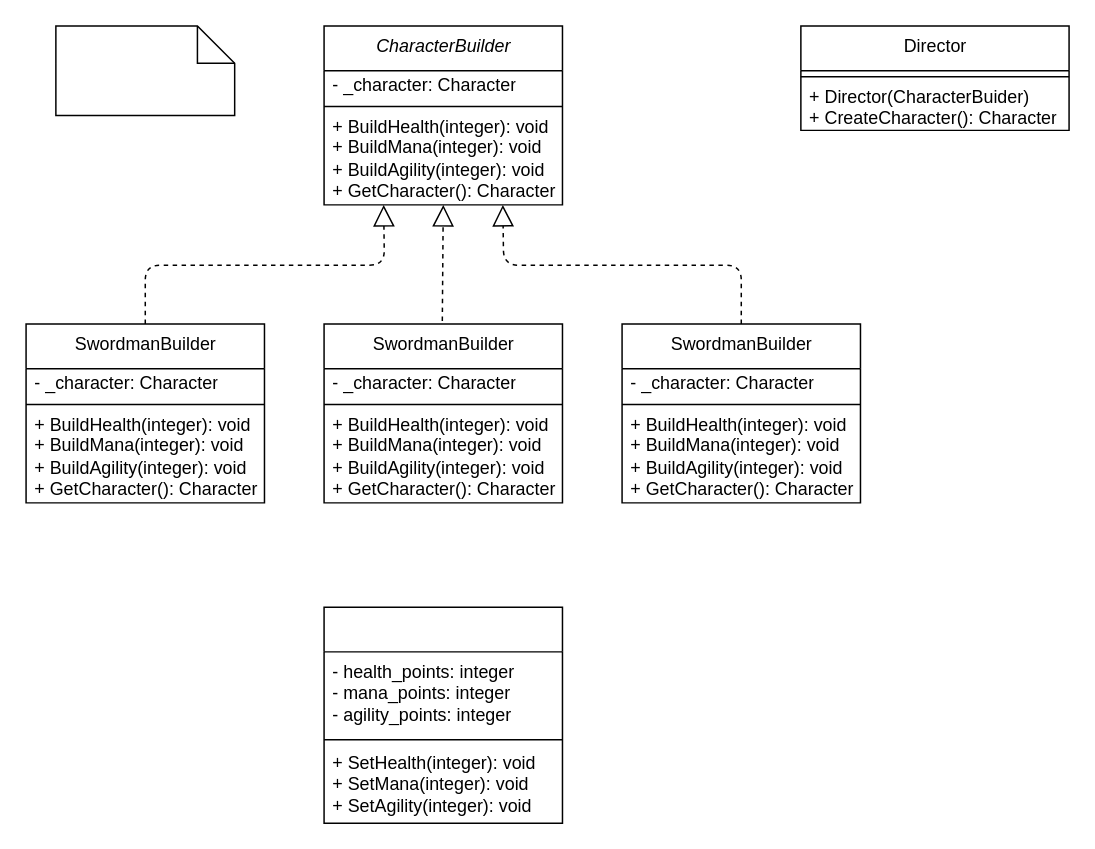
The diagram is 1095 pixels wide and 849 high, and some of its shapes have lost their labels. Each missing label, with the box of its shape:
Builder: (54, 25, 235, 115)
Character: (323, 606, 562, 823)
